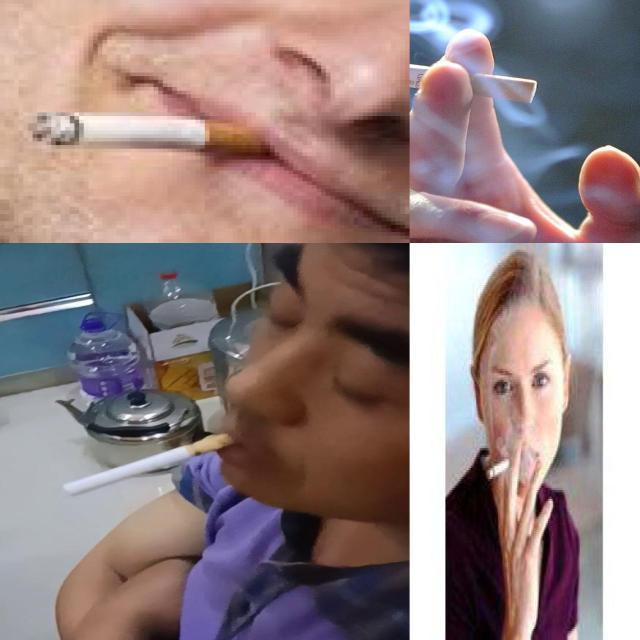smoking: (24, 109, 276, 158), (62, 434, 236, 496), (410, 52, 540, 104), (488, 453, 516, 480)
